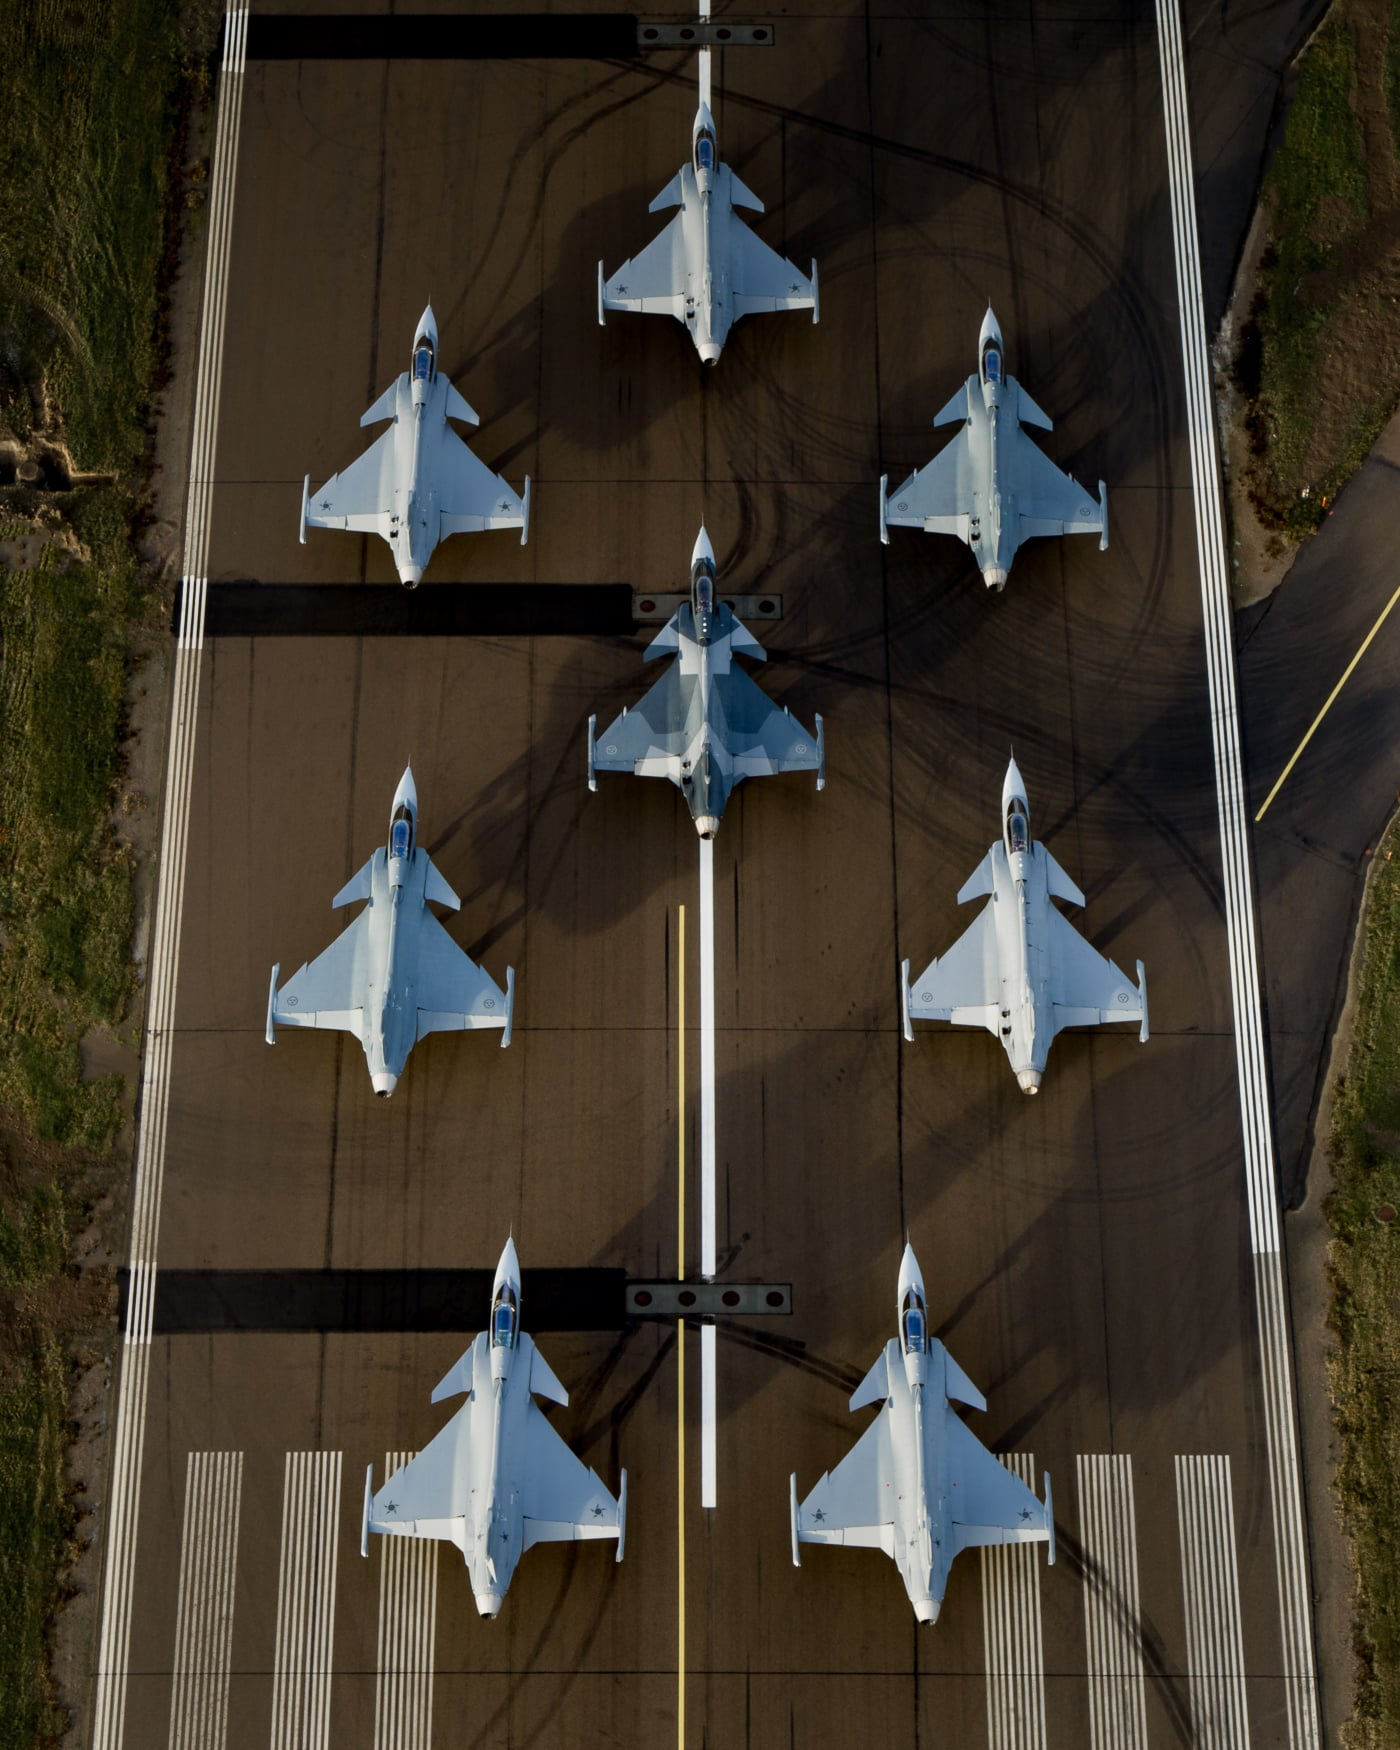JAS39: (360, 1220, 627, 1621), (789, 1227, 1056, 1627), (901, 741, 1150, 1096), (266, 753, 514, 1099), (586, 511, 826, 840), (299, 291, 531, 591), (879, 296, 1109, 594), (597, 91, 819, 369)
